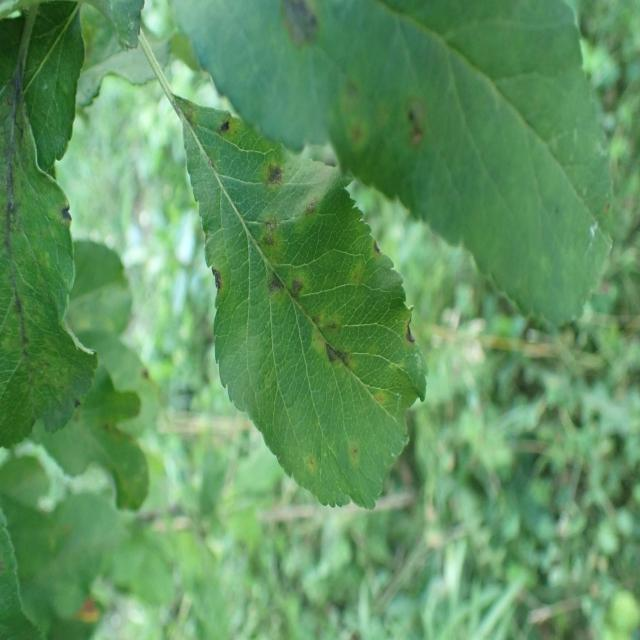scab: (171, 98, 406, 489), (253, 0, 447, 199)
